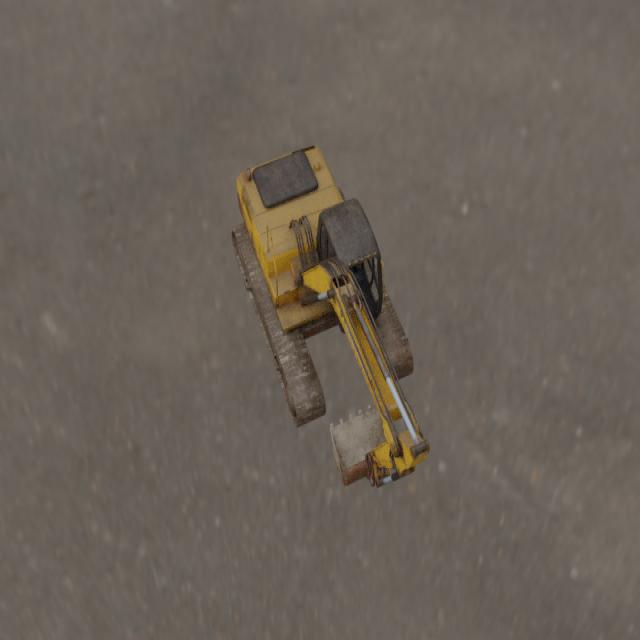excavator: (230, 144, 430, 488)
